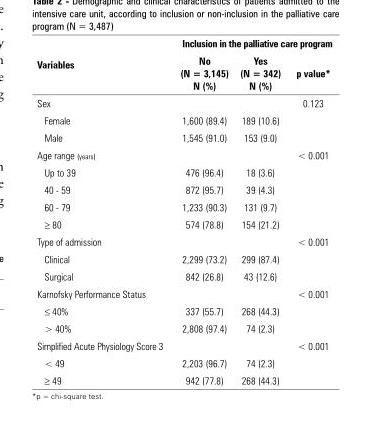table: (36, 36, 331, 385)
table column: (36, 36, 170, 385), (170, 36, 233, 385), (233, 36, 287, 385), (287, 36, 331, 385)
table column header: (36, 36, 331, 93)
table row: (36, 51, 331, 93), (36, 93, 331, 111), (36, 145, 331, 163), (36, 214, 331, 232), (36, 249, 331, 267), (36, 301, 331, 319), (36, 353, 331, 371), (36, 111, 331, 128), (36, 128, 331, 145), (36, 163, 331, 180), (36, 180, 331, 197), (36, 197, 331, 214), (36, 232, 331, 249), (36, 267, 331, 284), (36, 284, 331, 301), (36, 319, 331, 336), (36, 336, 331, 353), (36, 36, 331, 51), (36, 371, 331, 385)
table spanning cell: (36, 36, 170, 93), (170, 36, 331, 51)
